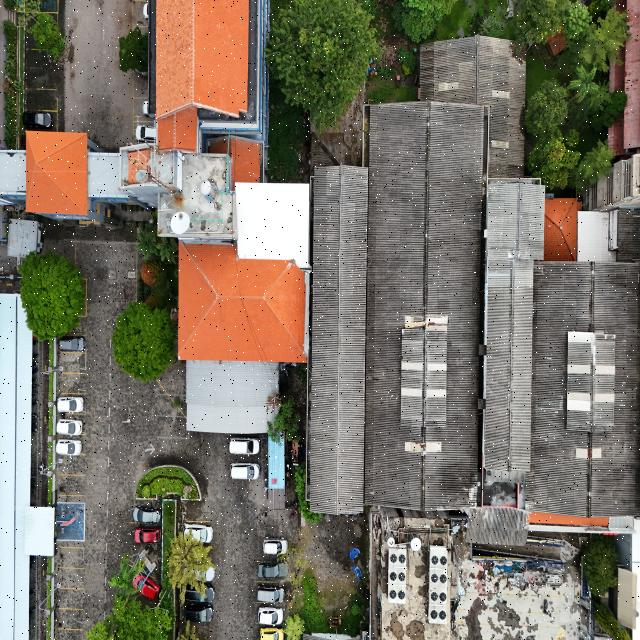Tree: (264, 0, 386, 126), (11, 245, 93, 349), (112, 294, 176, 384), (166, 530, 214, 602), (578, 530, 628, 598), (522, 77, 571, 143), (282, 616, 308, 640)
